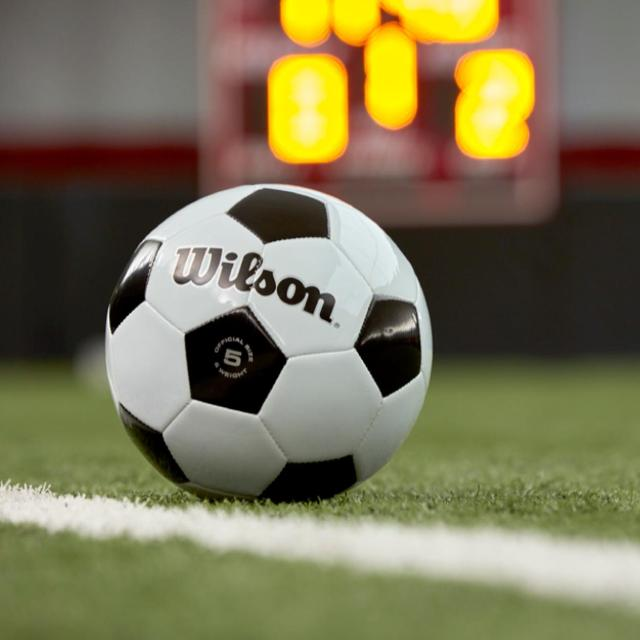soccer ball: (108, 184, 434, 503)
